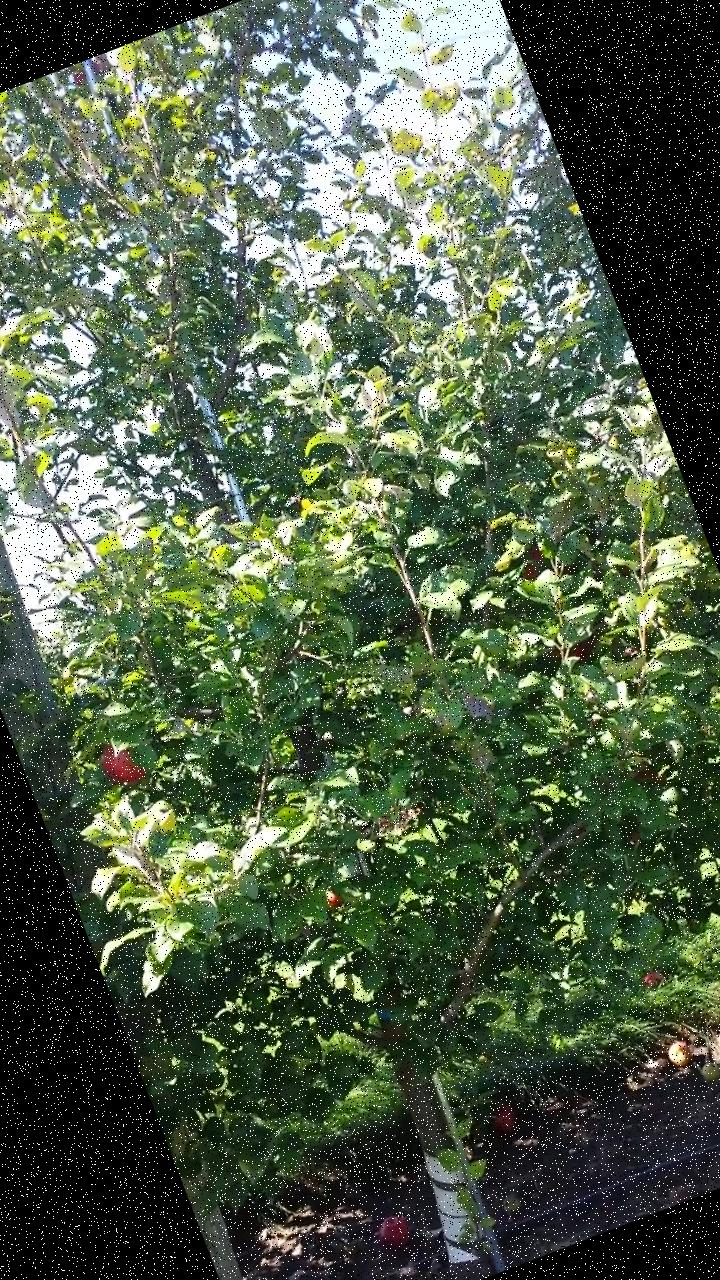Apple: (94, 735, 150, 791), (553, 634, 601, 670), (68, 56, 108, 87), (518, 546, 548, 580), (320, 881, 346, 912)
